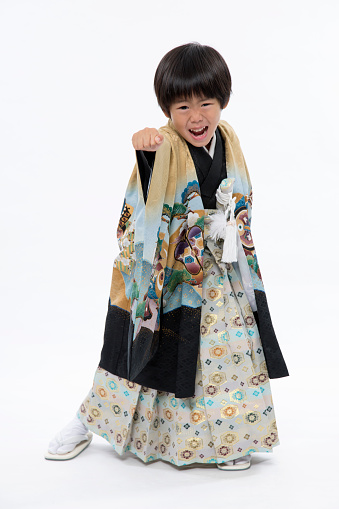em pe: (82, 42, 270, 443)
